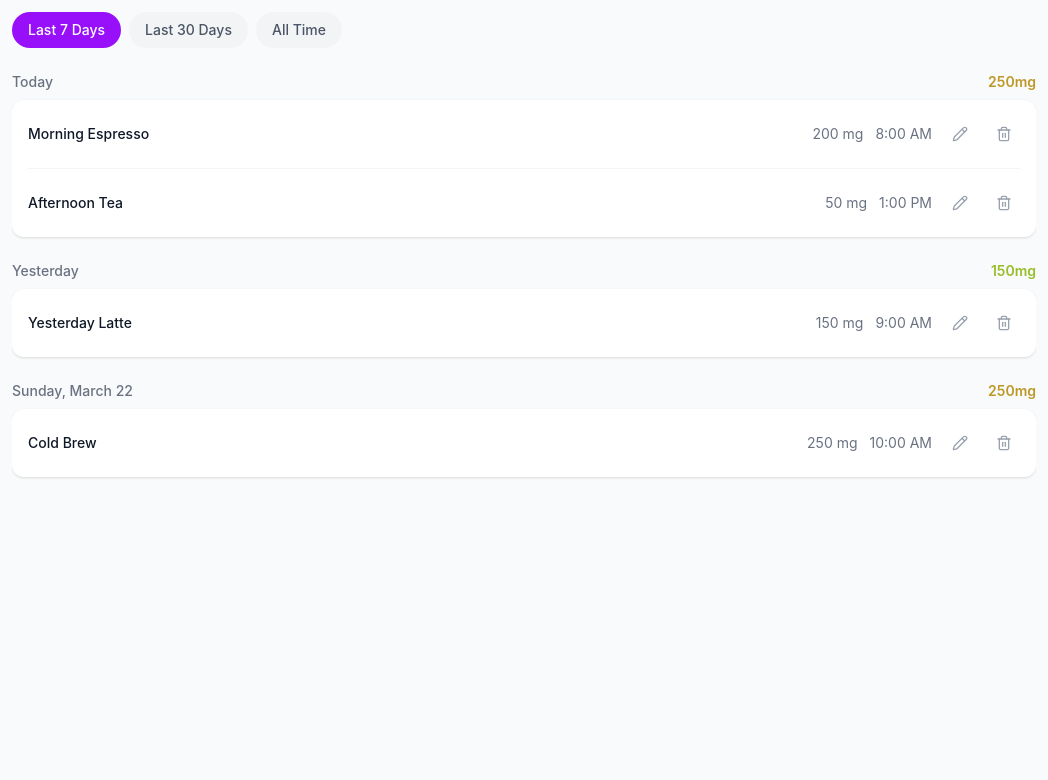
HistoryDrinkList › Last 30 Days filter excludes 35-day-old drinks
Click the button "Last 30 Days". click: (189, 30)
box: [129, 12, 248, 48]
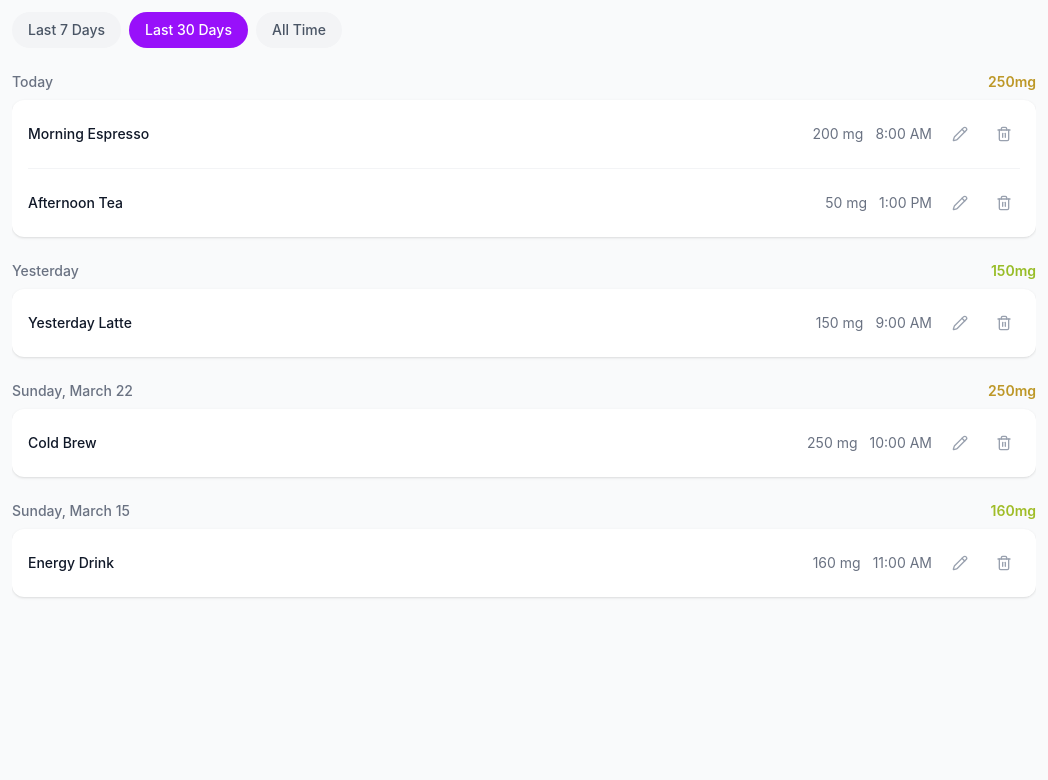
Expected: the text "Morning Espresso" is shown, [28, 124, 149, 144]
Result: the text "Energy Drink" is shown at [28, 553, 114, 573]
